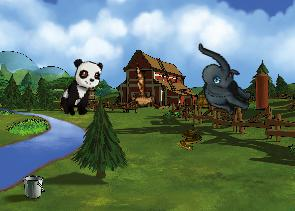eagle: (113, 63, 171, 121)
elephant: (179, 42, 264, 120)
panda: (57, 55, 105, 121)
